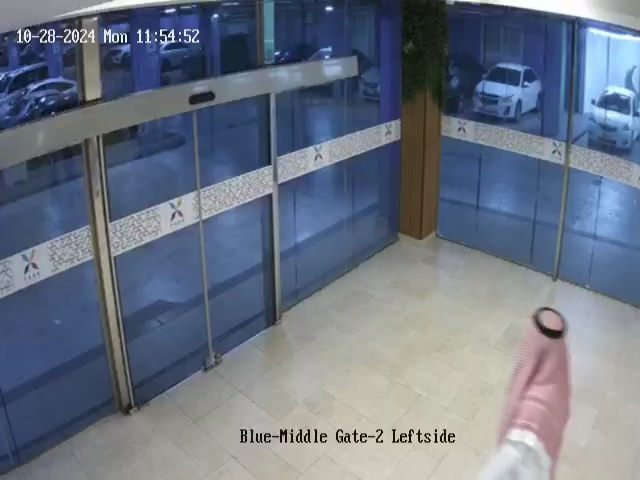male: (477, 306, 572, 480)
